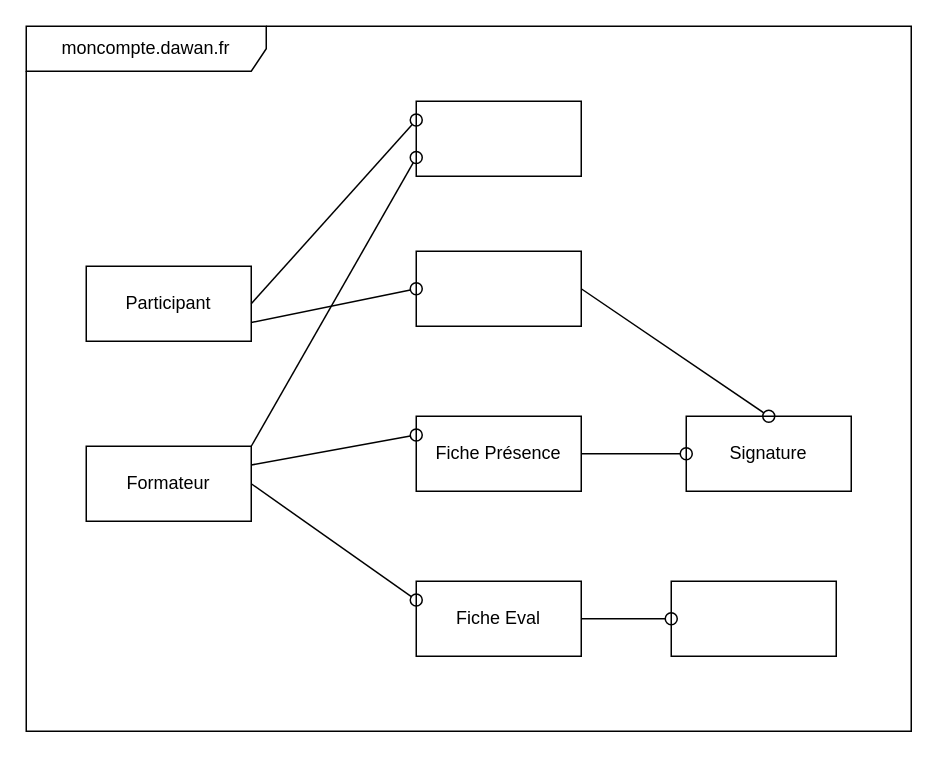
Some shapes in this 938 by 758 pixel diagram are drawn without their labels. Here are the shapes that lost their labels. From the top down, the centre of each, then its label:
the point at 498,138: Auth
the point at 498,288: Absence
the point at 753,618: Crtière
